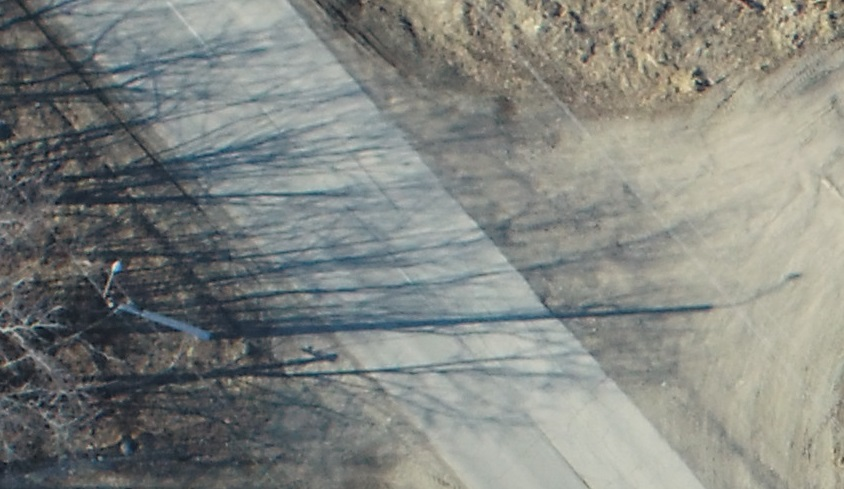opora: (94, 259, 288, 346)
